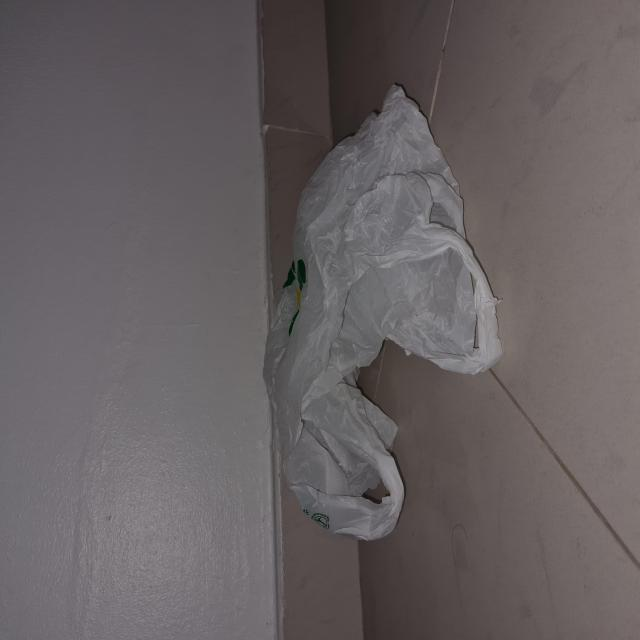plastic bag: (263, 81, 502, 542)
